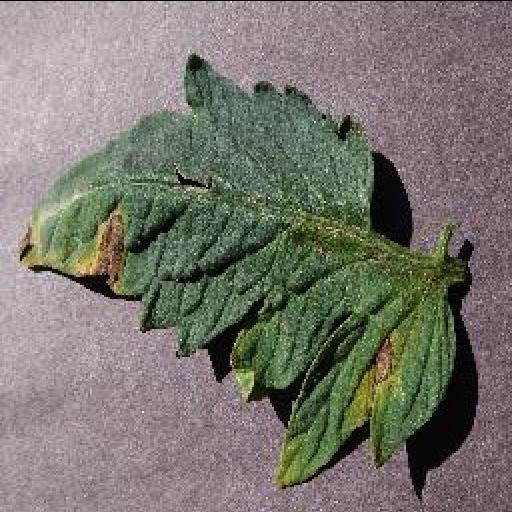disease_tomato: (20, 52, 460, 489)
